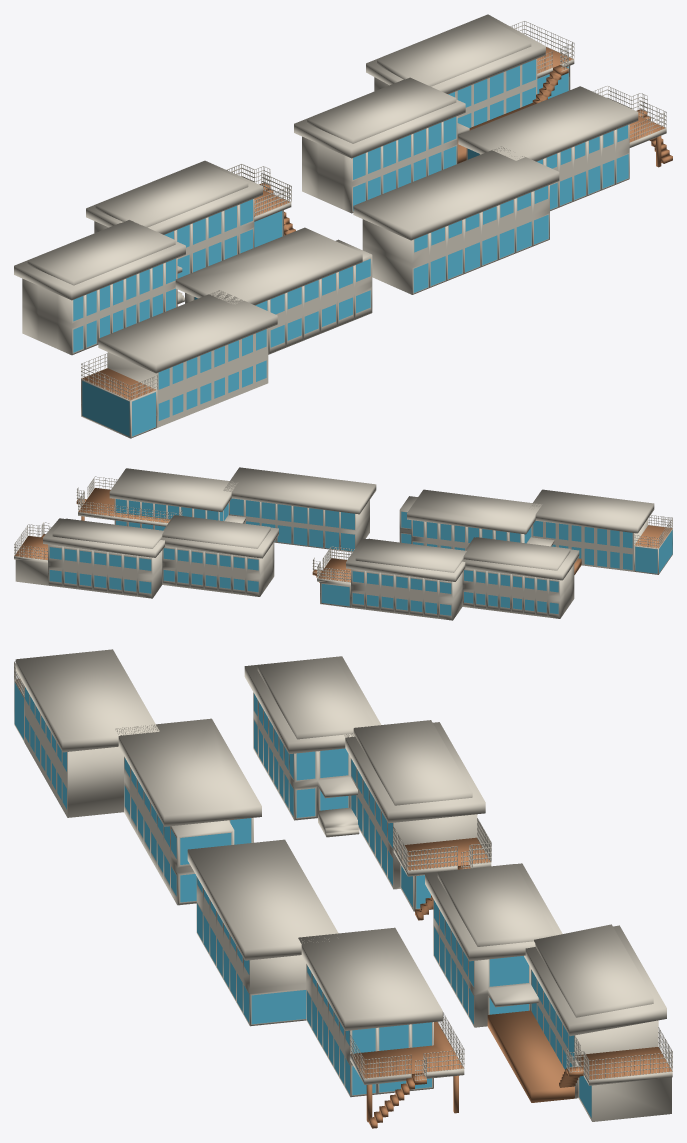
File: 078_ROOMS.glb
3 views of the same model, one above another, from view 1: azimuth 30°, elevation 25°; view 2: azimuth 150°, elevation 25°; view 3: azimuth 270°, elevation 25° (orthographic). The views are drawn at different scales.
Visible parts, largest first — view 1: 立方体017, 立方体017_2, 立方体017_1; view 2: 立方体017, 立方体017_2, 立方体017_1; view 3: 立方体017, 立方体017_2, 立方体017_1.
Part boxes in pixels (box(x1,y1,x2,y2)): 立方体017: box(14, 14, 666, 438); 立方体017_2: box(73, 59, 628, 436); 立方体017_1: box(82, 47, 672, 400); 立方体017: box(14, 467, 672, 620); 立方体017_2: box(49, 498, 672, 615); 立方体017_1: box(14, 488, 672, 582); 立方体017: box(14, 649, 672, 1121); 立方体017_2: box(14, 682, 591, 1117); 立方体017_1: box(16, 679, 671, 1128).
Bounding box in the file's own units: 20.12 × 2.14 × 13.59.
